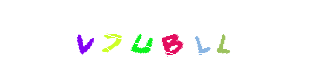7: (101, 0, 181, 80)
B: (117, 0, 197, 80)
L: (131, 0, 211, 80), (140, 0, 220, 80)
U: (115, 0, 195, 80)
V: (44, 0, 124, 80)
